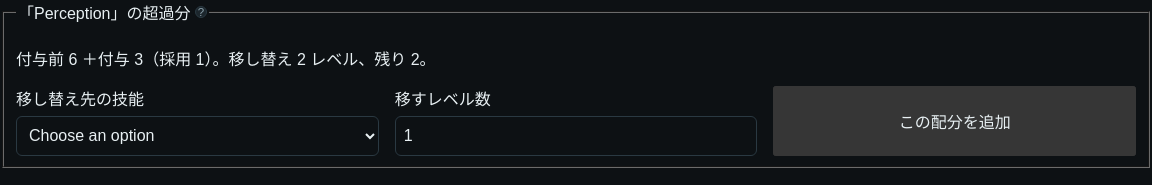
Test: requires an actual Exotic target and rejects placeholders
This screenshot has width=1152, height=185.
Step 1. Select "Exotic (INT, +7)" in the dropdown → [197, 136], box [16, 116, 379, 156]
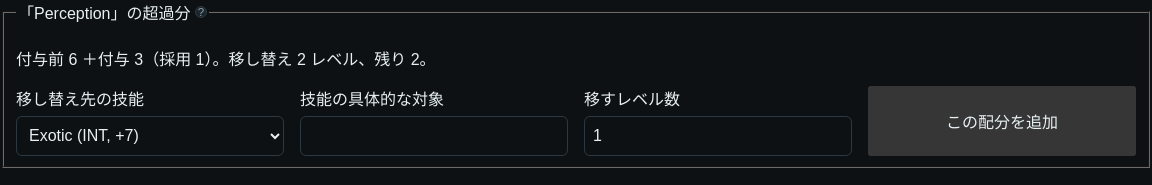
Expected: the button "この配分を追加" is disabled, [868, 86, 1136, 156]
Step 2. Type "[Weapon]" into the field → [434, 136], box [300, 116, 568, 156]
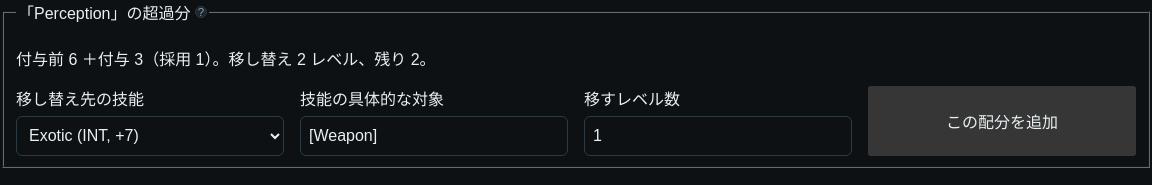
Expected: the button "この配分を追加" is disabled, [868, 86, 1136, 156]
Step 3. Replace the text in the field with "Drone interface" → [434, 136], box [300, 116, 568, 156]
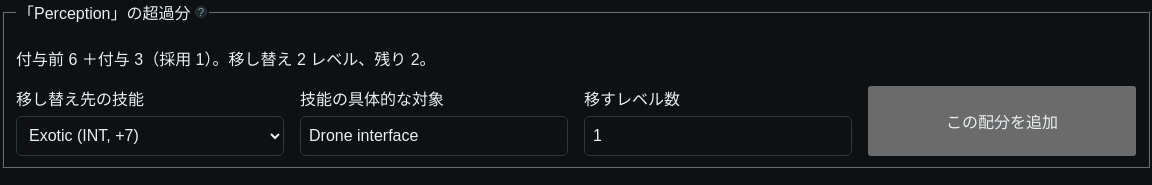
Expected: the button "この配分を追加" is enabled, [868, 86, 1136, 156]
